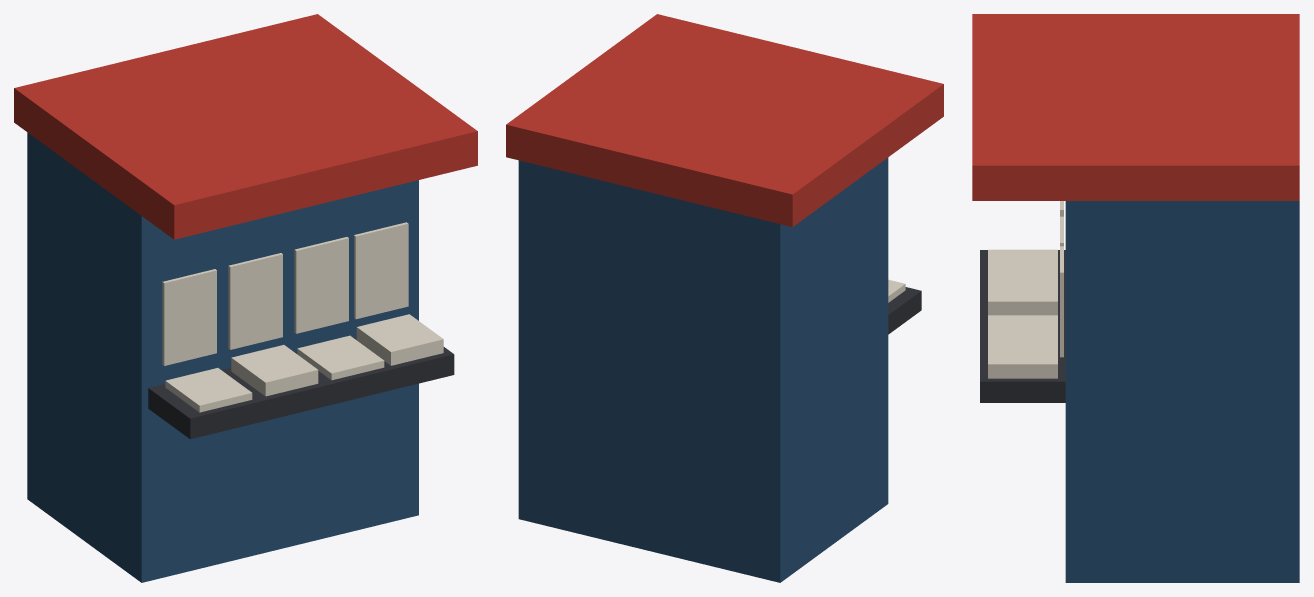
File: mod-banca.gltf
3 views of the same model, side by side, from view 1: azimuth 30°, elevation 25°; view 2: azimuth 150°, elevation 25°; view 3: azimuth 270°, elevation 25° (orthographic). The views are drawn at different scales.
Visible parts, largest first — view 1: mod-banca; view 2: mod-banca; view 3: mod-banca.
Part boxes in pixels (box(x1,y1,x2,y2)): mod-banca: box(14, 14, 477, 582); mod-banca: box(506, 14, 943, 582); mod-banca: box(972, 14, 1299, 582).
Size of the model in its own units: 0.92 by 1.2 by 0.84.
